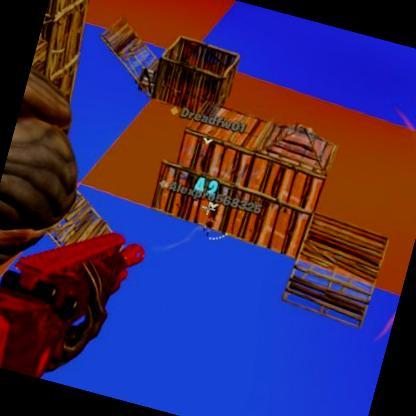person: (203, 214, 215, 236)
